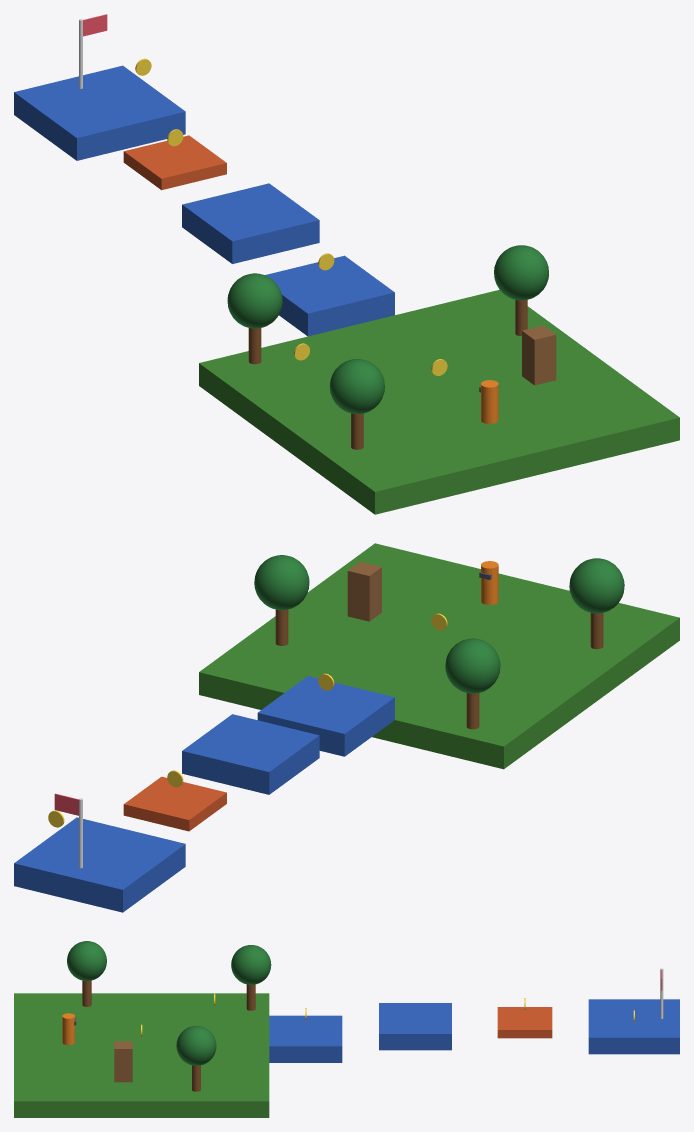
3 views of the same model, one above another, from view 1: azimuth 30°, elevation 25°; view 2: azimuth 150°, elevation 25°; view 3: azimuth 270°, elevation 25° (orthographic). The views are drawn at different scales.
Visible parts, largest first — view 1: Ground, GoalPad, Step2, Step1, MovingPlatform, Canopy3, Canopy1, Canopy2, Crate2, Crate1, Player; view 2: Ground, GoalPad, Step2, Step1, MovingPlatform, Canopy1, Canopy3, Canopy2, Crate2, Crate1, Player; view 3: Ground, GoalPad, Step1, Step2, MovingPlatform, Canopy2, Canopy3, Canopy1, Crate2, Player, Crate1.
Part boxes in pixels (left/top/right/bottom): Ground: left=199, top=290, right=679, bottom=514; GoalPad: left=14, top=65, right=185, bottom=160; Step2: left=182, top=183, right=319, bottom=263; Step1: left=265, top=255, right=394, bottom=336; MovingPlatform: left=123, top=135, right=226, bottom=190; Canopy3: left=227, top=273, right=282, bottom=328; Canopy1: left=329, top=359, right=384, bottom=414; Canopy2: left=494, top=245, right=548, bottom=300; Crate2: left=522, top=325, right=556, bottom=362; Crate1: left=522, top=354, right=556, bottom=385; Player: left=481, top=380, right=498, bottom=423; Ground: left=199, top=543, right=679, bottom=769; GoalPad: left=14, top=817, right=185, bottom=912; Step2: left=182, top=714, right=319, bottom=794; Step1: left=257, top=676, right=394, bottom=756; MovingPlatform: left=123, top=776, right=226, bottom=831; Canopy1: left=569, top=558, right=624, bottom=613; Canopy3: left=445, top=638, right=500, bottom=693; Canopy2: left=254, top=555, right=309, bottom=610; Crate2: left=347, top=561, right=381, bottom=598; Crate1: left=347, top=590, right=381, bottom=621; Player: left=481, top=561, right=498, bottom=604; Ground: left=14, top=993, right=269, bottom=1117; GoalPad: left=588, top=999, right=679, bottom=1054; Step1: left=269, top=1015, right=342, bottom=1062; Step2: left=379, top=1003, right=451, bottom=1050; MovingPlatform: left=497, top=1007, right=552, bottom=1038; Canopy2: left=176, top=1026, right=216, bottom=1065; Canopy3: left=231, top=945, right=271, bottom=984; Canopy1: left=67, top=941, right=106, bottom=980; Crate2: left=114, top=1041, right=132, bottom=1065; Player: left=62, top=1013, right=74, bottom=1045; Crate1: left=114, top=1065, right=132, bottom=1082.
Size of the model in its own units: 14 by 5.75 by 36.5.
